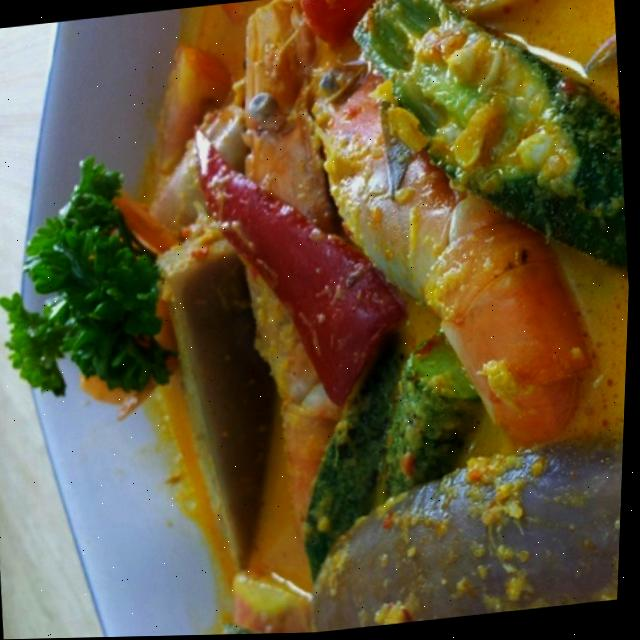熟制海鲜: (12, 0, 640, 639)
